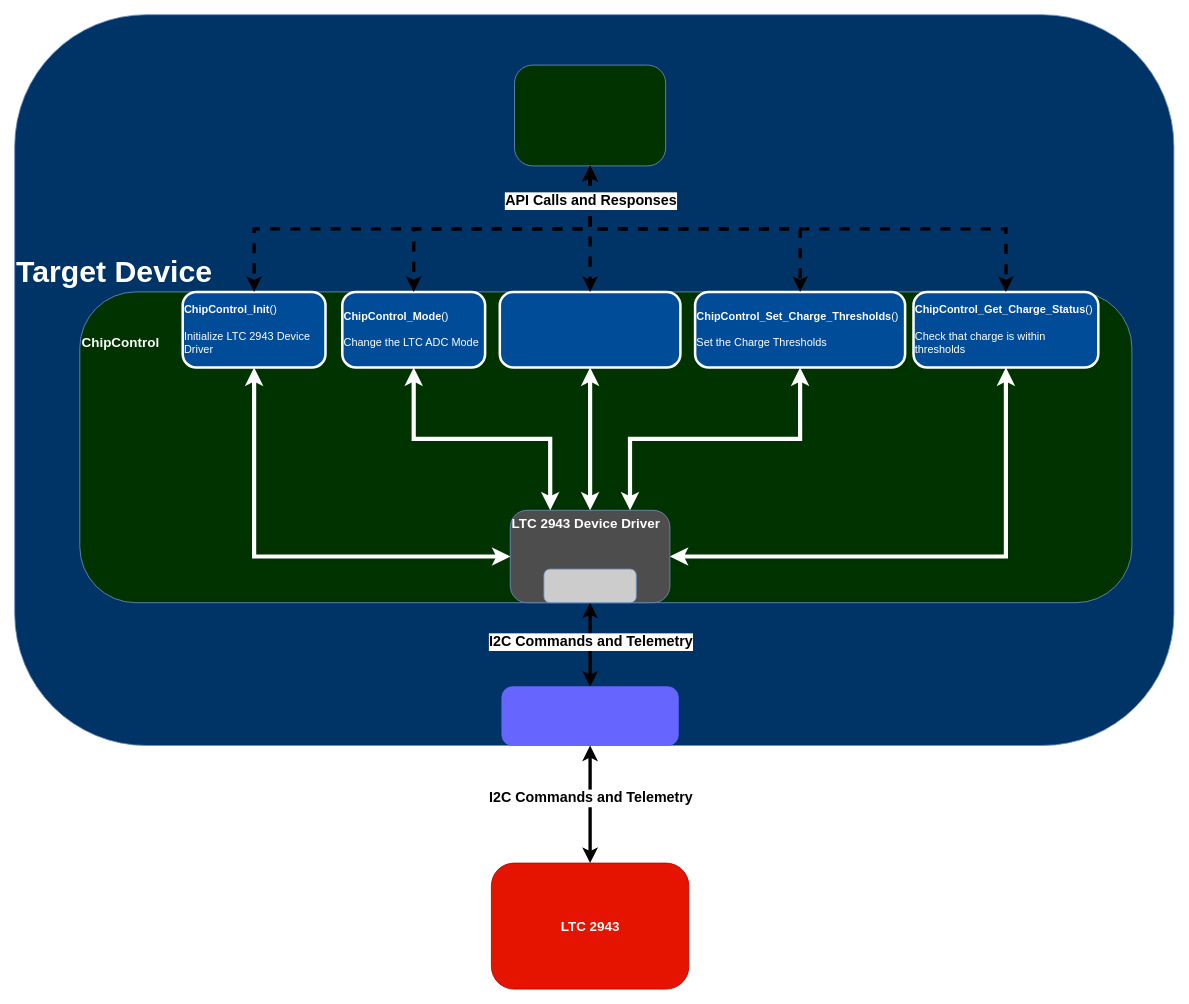
Image size: 1189x1004. Some labels were removed from this diagram. Here are the shapes that lost their labels. From the top down, the centre of each, then its label:
At (590,115): "Application Code".
At (589,329): "ChipControl_Temperature_Alert () Change the LTC ADC Mode".
At (589,585): "Device I2C Driver".
At (589,716): "I2C Peripheral".
